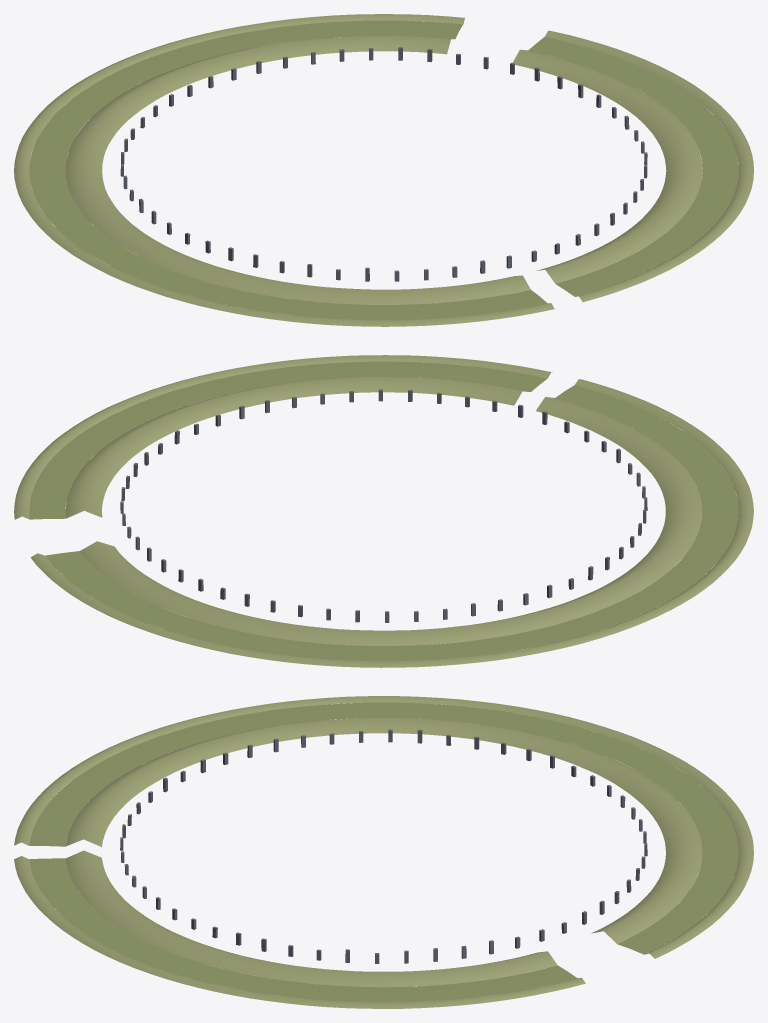
File: stonehenge-site-b35.glb
3 renders of one model, top to bottom at view 1: azimuth 30°, elevation 25°; view 2: azimuth 150°, elevation 25°; view 3: azimuth 270°, elevation 25°, orthographic.
Size of the model in its own units: 122 by 2.31 by 122.
